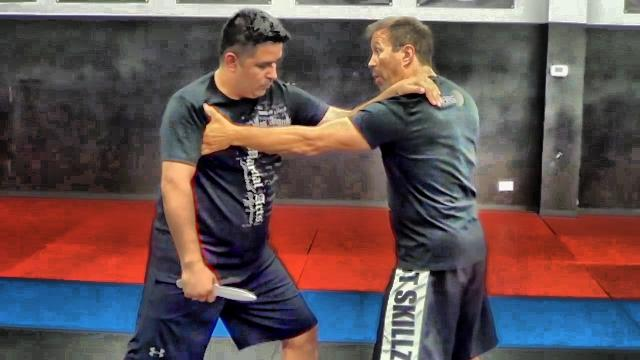knife: (173, 276, 259, 302)
